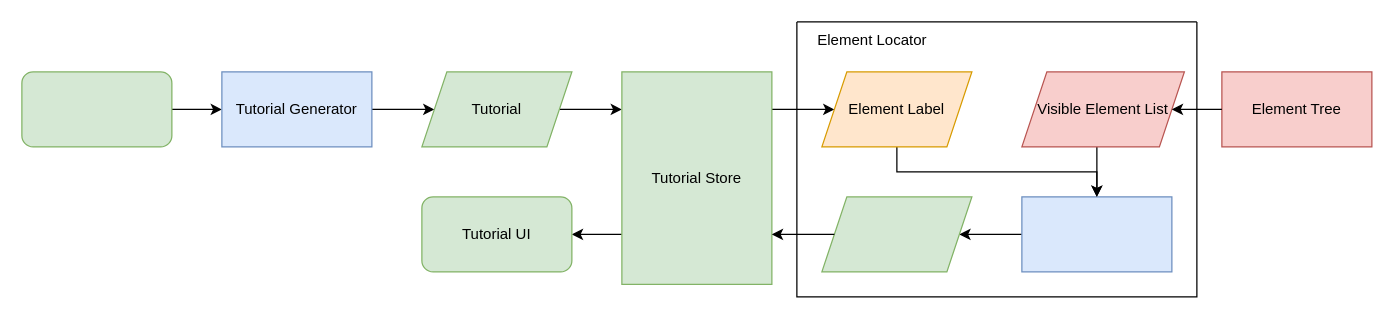
Some shapes in this 1394 by 319 pixel diagram are drawn without their labels. Each missing label, with the centre of its shape:
Element Matcher: point 1096,234
Element Selector: point 896,234
User Question: point 96,109
